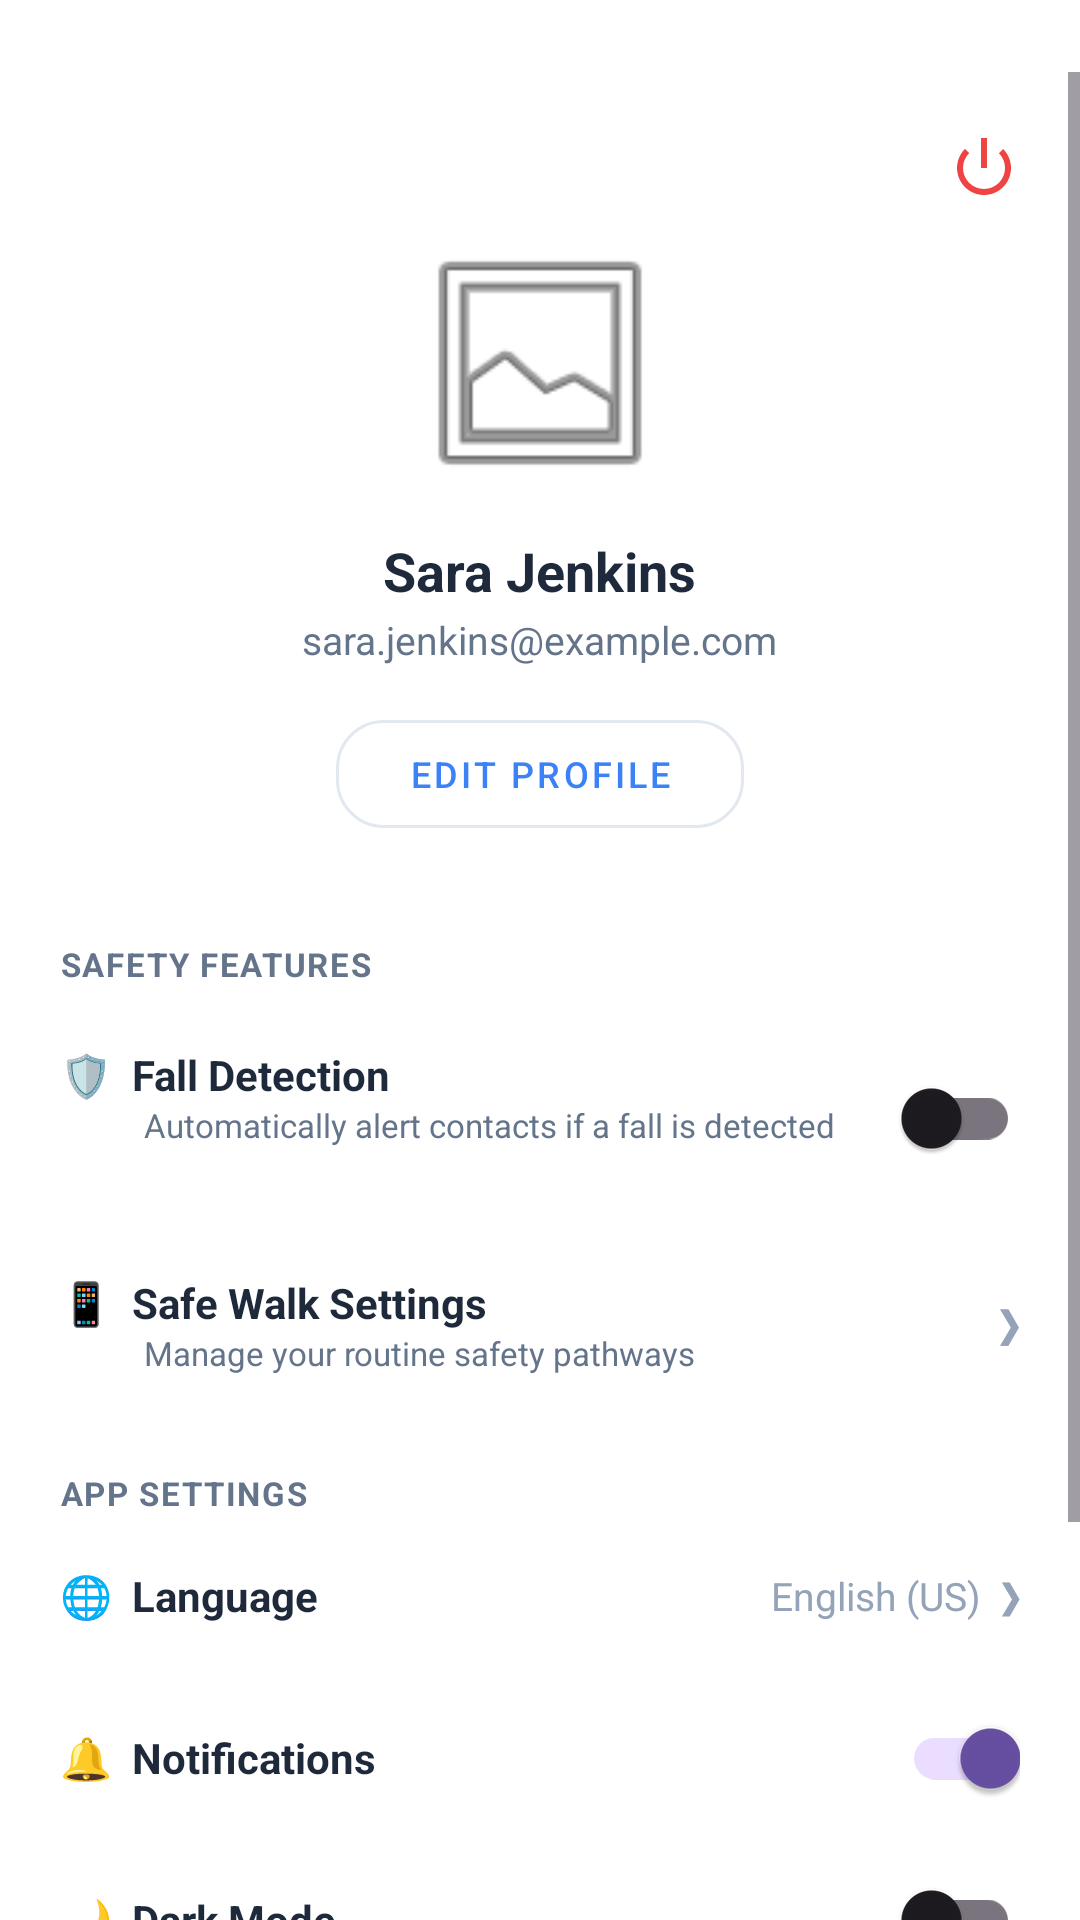

Locate icon controls on the screen. Image size 1080 × 1920, boxes as (x1, y1, x2, y2).
gallery: (438, 261, 642, 465)
lock power off: (957, 138, 1011, 195)
